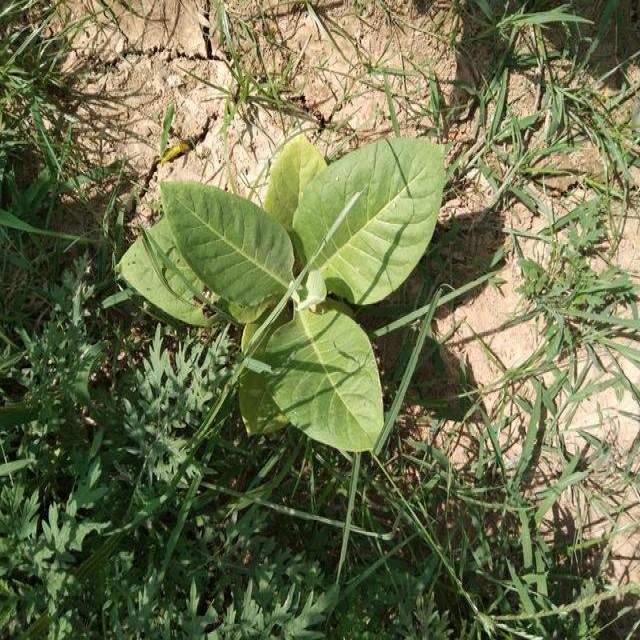crop: (130, 143, 440, 445)
